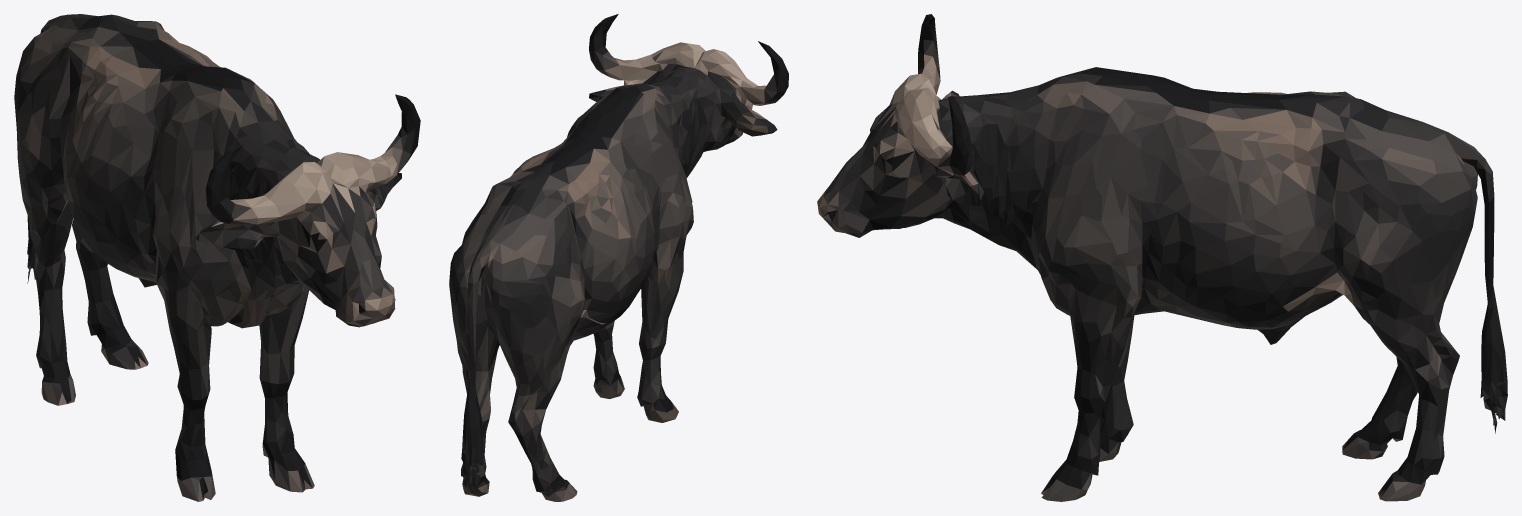
The model's file is syncerus_caffer.glb.
The picture shows the model from 3 angles, left to right: view 1: azimuth 30°, elevation 25°; view 2: azimuth 150°, elevation 25°; view 3: azimuth 270°, elevation 25°; orthographic projection. The views are drawn at different scales.
Visible parts, largest first — view 1: lod0; view 2: lod0; view 3: lod0.
Part boxes in pixels (left/top/right/bottom): lod0: left=14, top=14, right=420, bottom=501; lod0: left=449, top=14, right=788, bottom=501; lod0: left=817, top=14, right=1507, bottom=501.
Size of what is drawn, in the model's own units: 0.9067 by 1.57 by 2.33.
